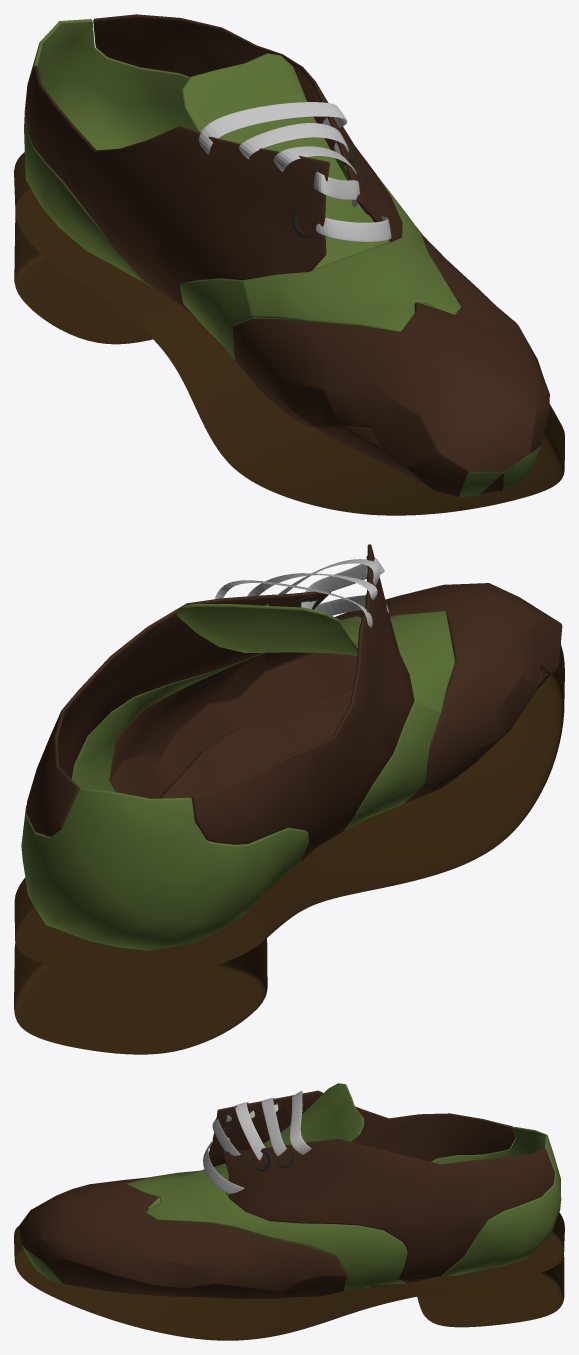
Rendered from za2ve3derecha.fbx.
3 renders of one model, top to bottom at view 1: azimuth 30°, elevation 25°; view 2: azimuth 150°, elevation 25°; view 3: azimuth 270°, elevation 25°, orthographic. The views are drawn at different scales.
Parts seen in each view (by area): view 1: zapato2, Plane, Plane.004, Plane.003, Plane.005, Plane.002, Plane.001; view 2: zapato2, Plane, Plane.002, Plane.003, Plane.005, Plane.004; view 3: zapato2, Plane, Plane.001, Plane.003, Plane.004, Plane.005, Plane.002.
Boxes of the visible parts, x1,y1,x2,y2 form: zapato2: [24, 14, 549, 497]; Plane: [14, 152, 564, 515]; Plane.004: [198, 102, 347, 154]; Plane.003: [239, 123, 348, 159]; Plane.005: [316, 216, 391, 241]; Plane.002: [313, 171, 359, 207]; Plane.001: [273, 146, 356, 174]; zapato2: [21, 544, 562, 950]; Plane: [14, 644, 564, 1054]; Plane.002: [301, 558, 384, 608]; Plane.003: [247, 573, 377, 610]; Plane.005: [314, 595, 388, 615]; Plane.004: [215, 580, 372, 627]; zapato2: [18, 1083, 561, 1298]; Plane: [14, 1212, 564, 1340]; Plane.001: [235, 1102, 265, 1160]; Plane.003: [261, 1098, 286, 1156]; Plane.004: [290, 1091, 311, 1154]; Plane.005: [203, 1137, 244, 1193]; Plane.002: [212, 1115, 240, 1155].
Bounding box in the file's own units: 169 × 176 × 447.
